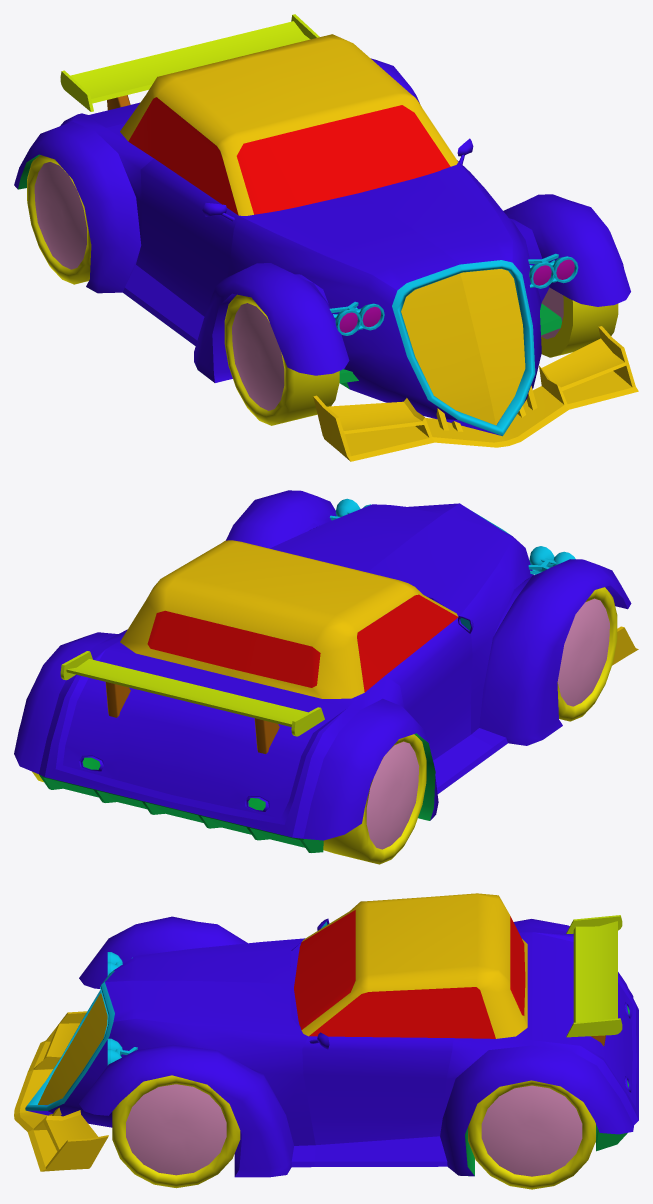
File: 08_TierraRatRod_ColorCoded.fbx
The picture shows the model from 3 angles, top to bottom: view 1: azimuth 30°, elevation 25°; view 2: azimuth 150°, elevation 25°; view 3: azimuth 270°, elevation 25°; orthographic projection. The views are drawn at different scales.
Parts seen in each view (by area): view 1: Body, tireFrontR, Spoiler, tireBackR, tireFrontL; view 2: Body, tireBackR, Spoiler, tireFrontR; view 3: Body, tireFrontL, tireBackL, Spoiler.
Part boxes in pixels (x1,y1,x2,y2): Body: (14, 34, 638, 461); tireFrontR: (224, 294, 339, 425); Spoiler: (60, 14, 319, 111); tireBackR: (27, 155, 91, 284); tireFrontL: (541, 287, 618, 357); Body: (14, 490, 638, 852); tireBackR: (323, 734, 426, 864); Spoiler: (60, 651, 324, 753); tireFrontR: (557, 587, 617, 721); Body: (14, 893, 638, 1177); tireFrontL: (112, 1075, 240, 1188); tireBackL: (468, 1080, 595, 1189); Spoiler: (566, 915, 622, 1046).
Bounding box in the file's own units: 64.44 × 109 × 36.12.
